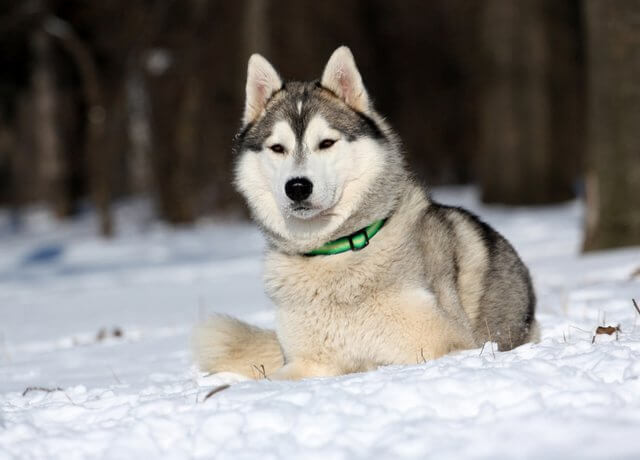husky: (187, 36, 539, 375)
